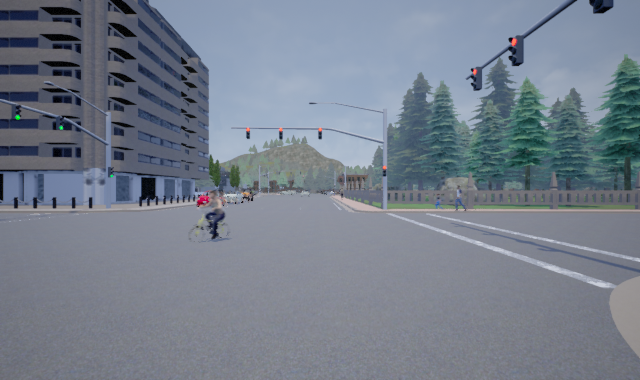bike: (189, 189, 232, 241)
pedestrian: (452, 183, 466, 210), (432, 191, 443, 209)
vehicle: (196, 190, 226, 208), (219, 189, 243, 204), (234, 187, 254, 202)
